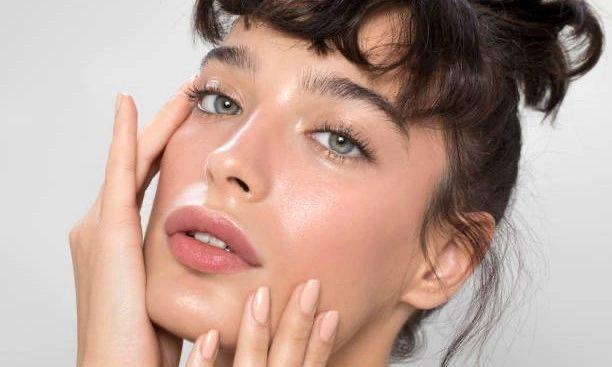Oily-Skin: (299, 192, 361, 278), (177, 139, 227, 243), (372, 176, 428, 263), (259, 131, 307, 213), (189, 267, 238, 327), (260, 82, 288, 155)
